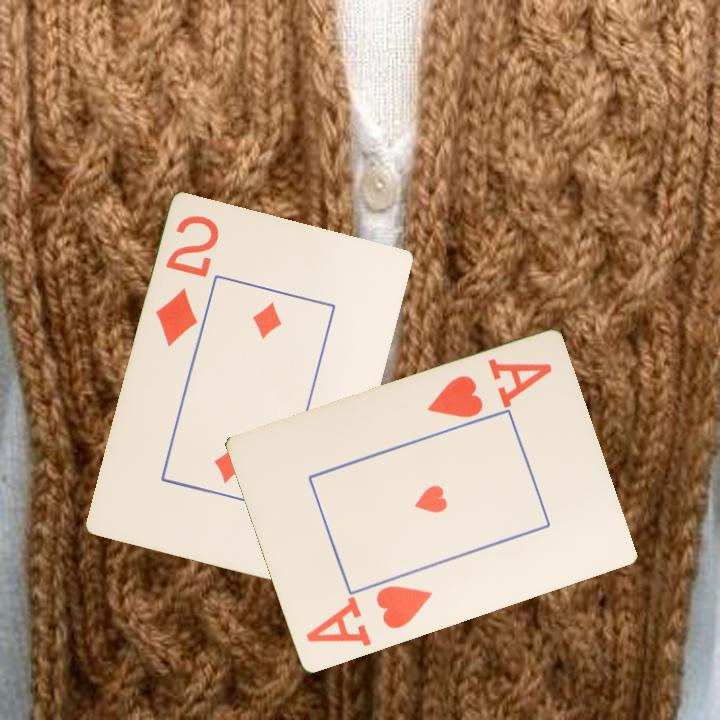2d: (152, 212, 223, 350)
Ah: (302, 582, 435, 650), (423, 355, 555, 422)
